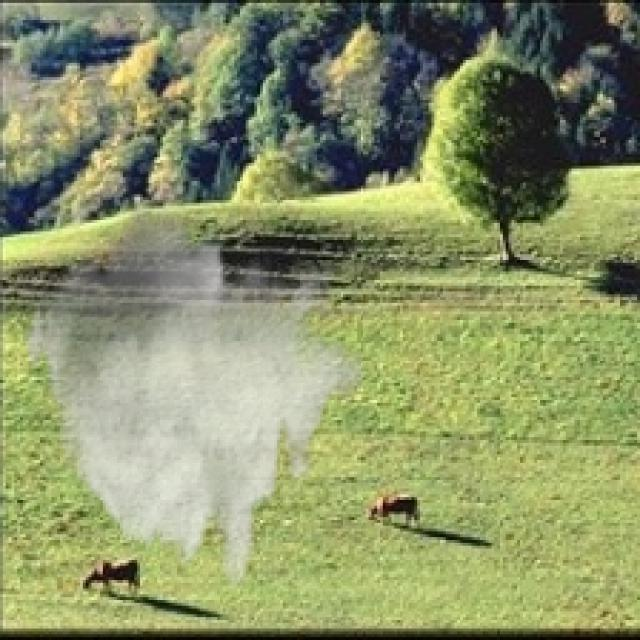Smoke: (20, 188, 366, 592)
